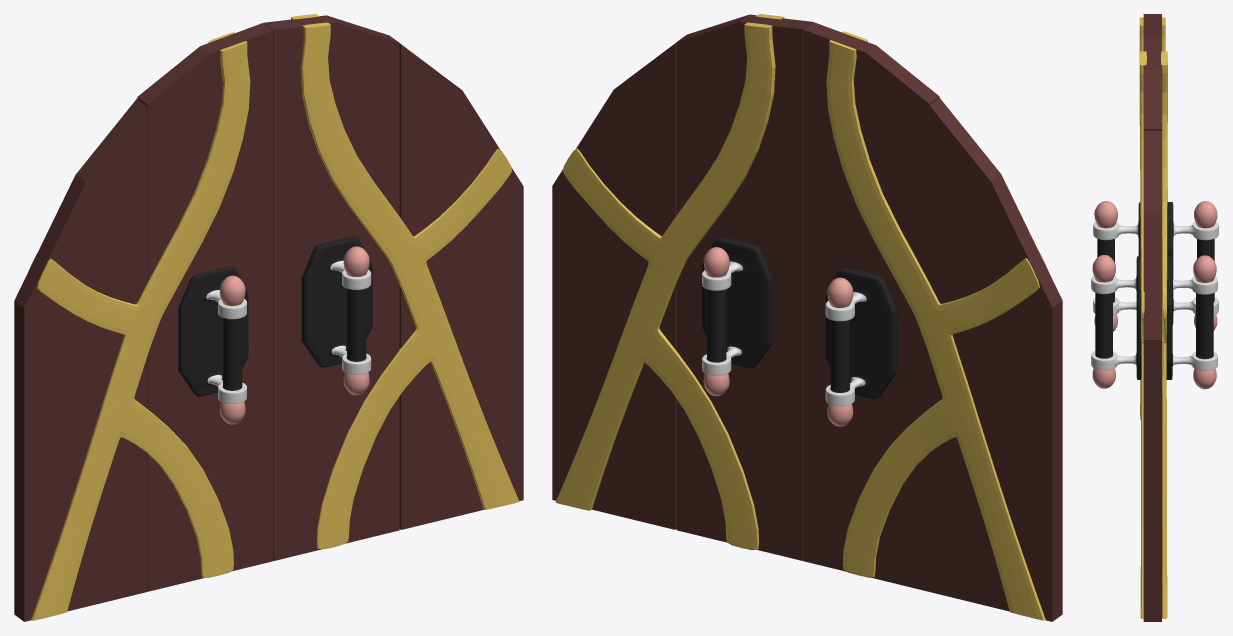
Rendered from Door_open.fbx.
3 views of the same model, side by side, from view 1: azimuth 30°, elevation 25°; view 2: azimuth 150°, elevation 25°; view 3: azimuth 270°, elevation 25° (orthographic). The views are drawn at different scales.
Parts seen in each view (by area): view 1: Puerta_izq.005, Puerta_der.007; view 2: Puerta_izq.005, Puerta_der.007; view 3: Puerta_der.007, Puerta_izq.005.
Boxes of the visible parts, left/top/right/bottom form: Puerta_izq.005: left=14, top=23, right=273, bottom=621; Puerta_der.007: left=264, top=14, right=523, bottom=560; Puerta_izq.005: left=803, top=22, right=1062, bottom=621; Puerta_der.007: left=552, top=14, right=812, bottom=560; Puerta_der.007: left=1091, top=34, right=1217, bottom=621; Puerta_izq.005: left=1093, top=14, right=1218, bottom=419.
Bounding box in the file's own units: 192 × 195 × 47.21.
